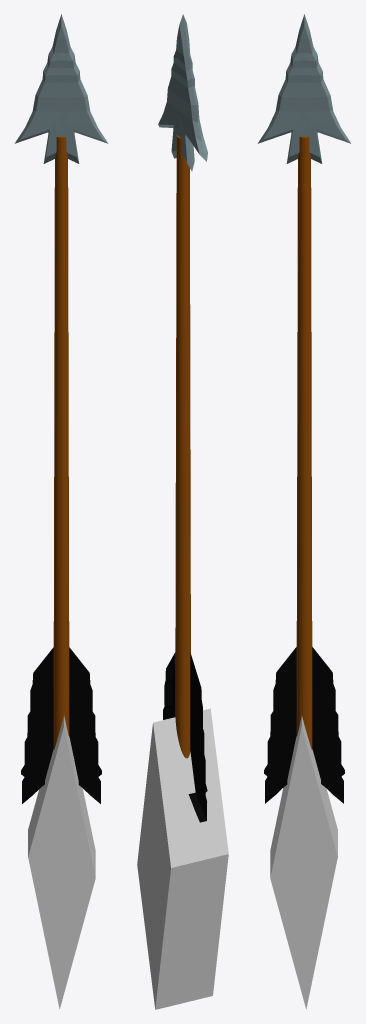
The model's file is Arrow_V1.fbx.
The picture shows the model from 3 angles, left to right: view 1: azimuth 90°, elevation 25°; view 2: azimuth 210°, elevation 25°; view 3: azimuth 270°, elevation 25°; orthographic projection.
Visible parts, largest first — view 1: Cube, Cylinder, Plane.001, Plane; view 2: Cube, Cylinder, Plane, Plane.001; view 3: Cube, Cylinder, Plane.001, Plane.
Part boxes in pixels (<box>): Cube: <box>28,715,95,1008</box>; Cylinder: <box>53,136,69,750</box>; Plane.001: <box>21,647,101,803</box>; Plane: <box>14,14,108,163</box>; Cube: <box>137,708,228,1009</box>; Cylinder: <box>175,135,190,758</box>; Plane: <box>158,14,207,171</box>; Plane.001: <box>163,652,207,822</box>; Cube: <box>270,715,337,1008</box>; Cylinder: <box>296,136,312,750</box>; Plane.001: <box>264,647,344,803</box>; Plane: <box>257,14,351,163</box>.
Size of the model in its own units: 40.76 by 667 by 58.06.
